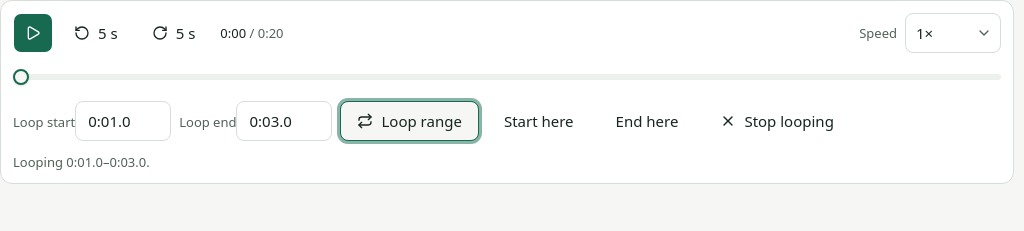
Test case: WaveformPlayer › draws native peaks without fetching audio and loops a range typed from the keyboard
The image size is (1024, 231).
Earlier steps of the test are not shown.
Expected: the text "Looping 0:01.0–0:03.0." is shown, [13,153,150,171]
Click the button "Stop looping" at (777, 121), box [703,101,851,141]
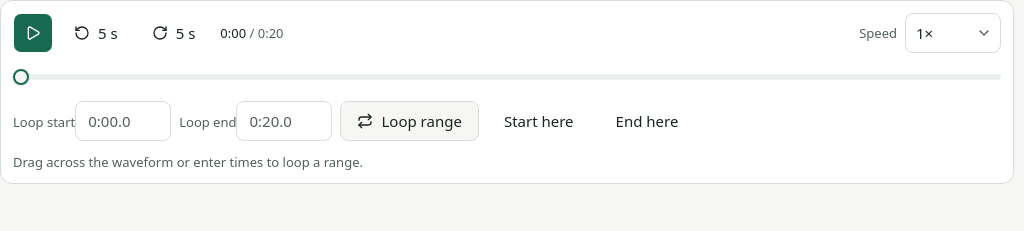
Result: the text "Drag across the waveform or enter times to loop a range." is shown at [13,153,363,171]
Type "later" into the field labelled "Loop start" at (123, 121), box [75,101,171,141]
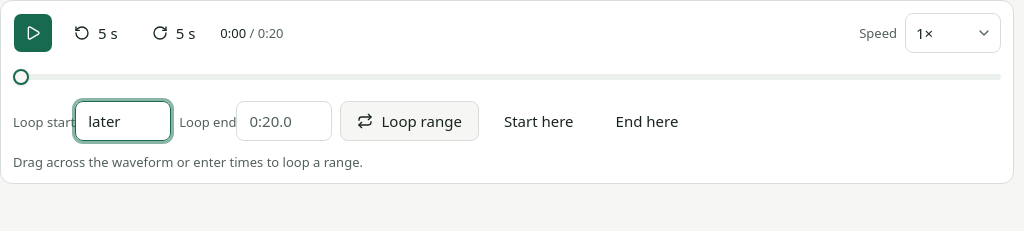
Click the button "Loop range" at (410, 121), box [340,101,479,141]
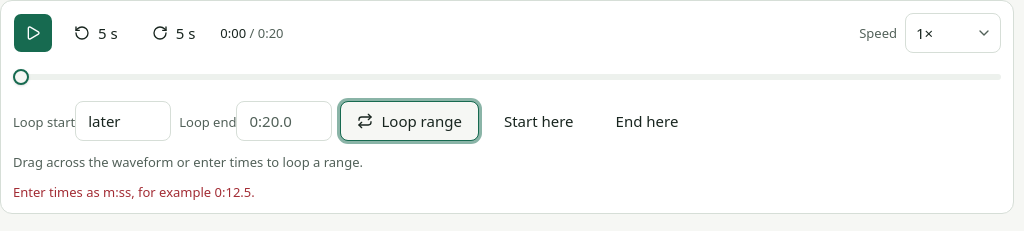
Result: the message shows "Enter times as m:ss" at [13,183,255,201]
